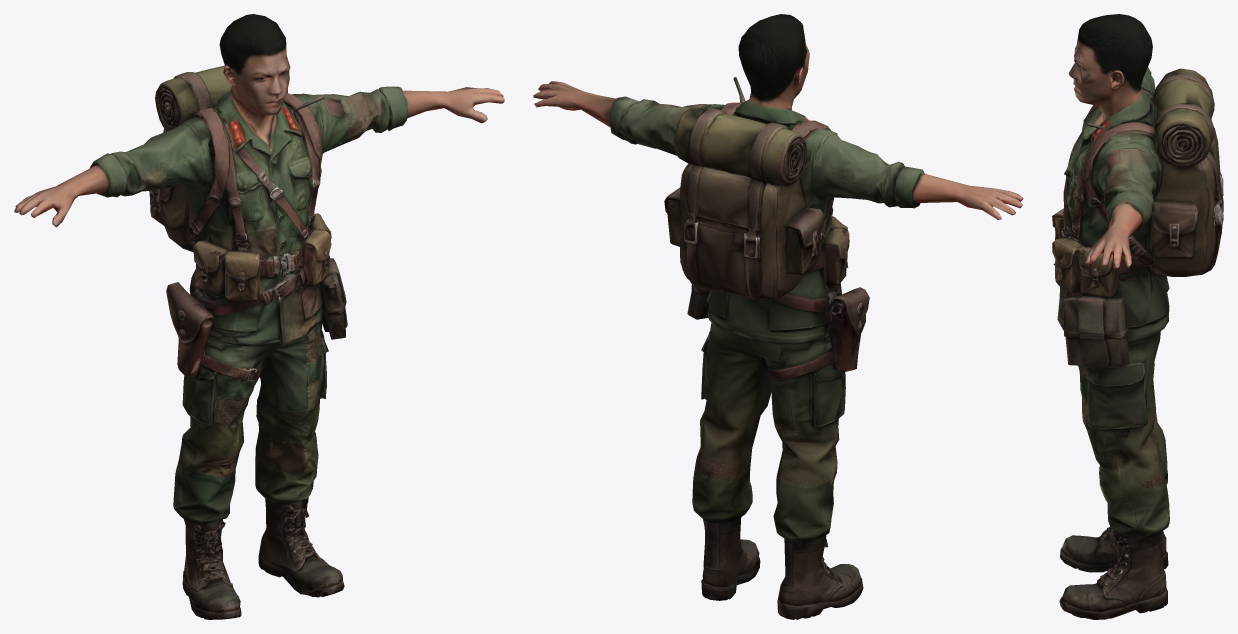
Rendered from sen.glb.
3 renders of one model, left to right at view 1: azimuth 30°, elevation 25°; view 2: azimuth 150°, elevation 25°; view 3: azimuth 270°, elevation 25°, orthographic.
Visible parts, largest first — view 1: tripo_node_b084c1b2-6a91-4787-84f2-a1f97fcae069; view 2: tripo_node_b084c1b2-6a91-4787-84f2-a1f97fcae069; view 3: tripo_node_b084c1b2-6a91-4787-84f2-a1f97fcae069.
Part boxes in pixels (left/top/right/bottom): tripo_node_b084c1b2-6a91-4787-84f2-a1f97fcae069: left=14, top=14, right=504, bottom=619; tripo_node_b084c1b2-6a91-4787-84f2-a1f97fcae069: left=533, top=14, right=1023, bottom=619; tripo_node_b084c1b2-6a91-4787-84f2-a1f97fcae069: left=1052, top=14, right=1223, bottom=619.
Bounding box in the file's own units: 0.8604 × 0.9789 × 0.2661.
1 material, 1 textured.
